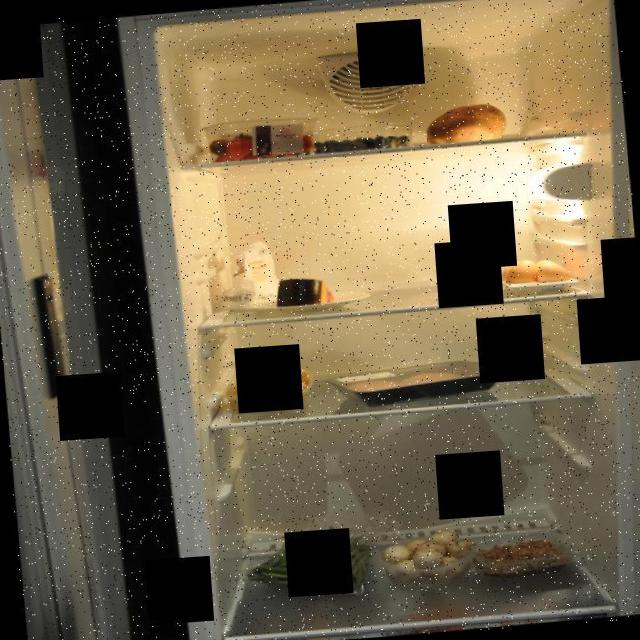Carne pollo: (338, 363, 468, 408)
Champiñones: (375, 524, 478, 588)
Gambas/Langostinos: (470, 534, 570, 580)
Huevos: (494, 253, 574, 290)
Patata: (216, 362, 314, 418)
Queso: (273, 273, 340, 309)
